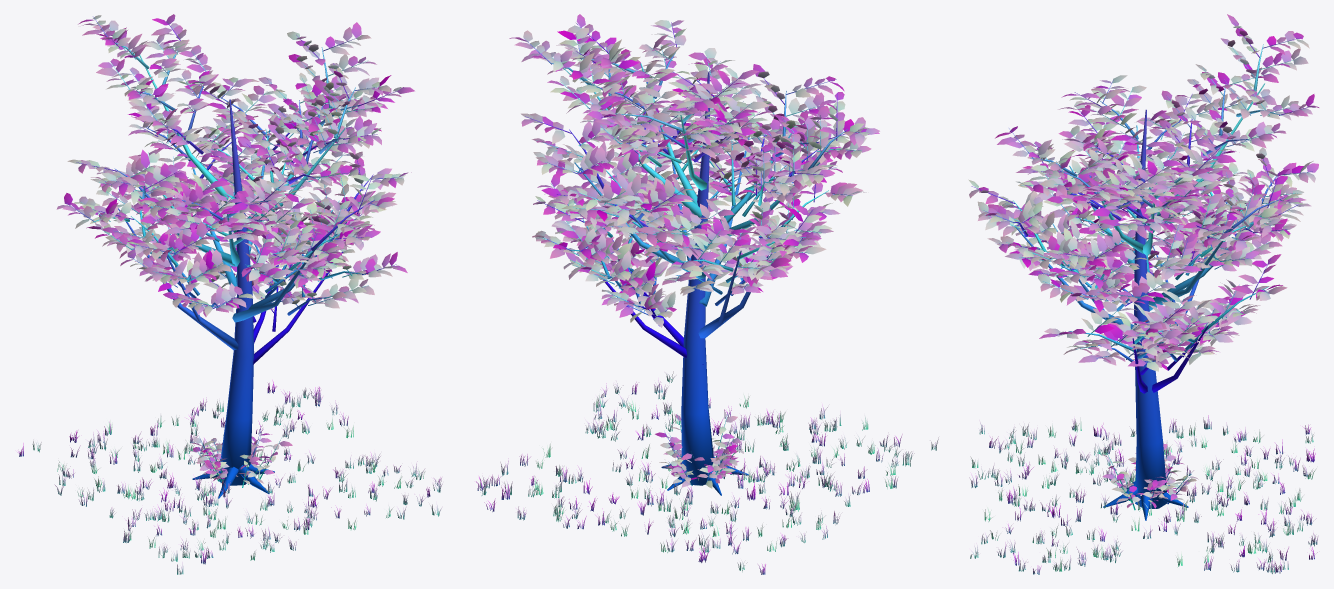
Rendered from NaturalVegetation.glb.
The picture shows the model from 3 angles, left to right: view 1: azimuth 30°, elevation 25°; view 2: azimuth 150°, elevation 25°; view 3: azimuth 270°, elevation 25°; orthographic projection. The views are drawn at different scales.
Parts seen in each view (by area): view 1: Broadleaf_A_LOD0, Broadleaf_B_LOD0, GrassPatch_LOD0, Shrub_LOD0; view 2: Broadleaf_A_LOD0, Broadleaf_B_LOD0, GrassPatch_LOD0, Shrub_LOD0; view 3: Broadleaf_A_LOD0, Broadleaf_B_LOD0, GrassPatch_LOD0, Shrub_LOD0.
Part boxes in pixels (box(x1,y1,x2,y2)): Broadleaf_A_LOD0: box(56, 14, 407, 498); Broadleaf_B_LOD0: box(82, 22, 414, 350); GrassPatch_LOD0: box(17, 380, 442, 574); Shrub_LOD0: box(188, 432, 292, 487); Broadleaf_A_LOD0: box(521, 20, 879, 495); Broadleaf_B_LOD0: box(509, 14, 868, 364); GrassPatch_LOD0: box(476, 371, 938, 574); Shrub_LOD0: box(655, 414, 743, 488); Broadleaf_A_LOD0: box(968, 14, 1319, 520); Broadleaf_B_LOD0: box(987, 100, 1318, 392); GrassPatch_LOD0: box(969, 415, 1318, 574); Shrub_LOD0: box(1100, 444, 1198, 510).
Size of what is drawn, in the model's own units: 3.86 by 5.24 by 3.78.
